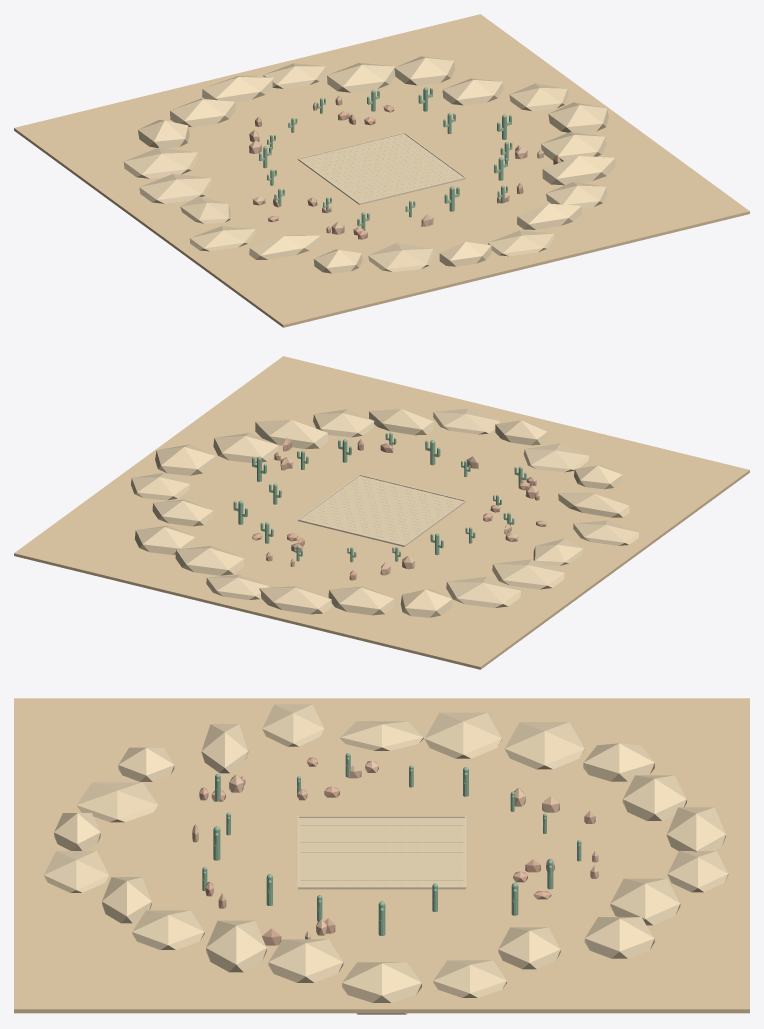
The model's file is landscape-desert.glb.
3 views of the same model, one above another, from view 1: azimuth 30°, elevation 25°; view 2: azimuth 150°, elevation 25°; view 3: azimuth 270°, elevation 25° (orthographic). The views are drawn at different scales.
Parts seen in each view (by area): view 1: Surrounding terrain.001, Playing clearing.001, Dune.010, Dune.011, Dune.021, Dune.005, Dune.001, Dune.016, Dune.008, Dune.007, Dune, Dune.004 (+12 smaller); view 2: Surrounding terrain.001, Playing clearing.001, Dune.010, Dune.011, Dune.005, Dune.021, Dune.007, Dune.001, Dune, Dune.008, Dune.016, Dune.004 (+12 smaller); view 3: Surrounding terrain.001, Playing clearing.001, Dune.010, Dune.011, Dune.001, Dune, Dune.021, Dune.016, Dune.005, Dune.004, Dune.008, Dune.020 (+12 smaller).
Part boxes in pixels (bbox=[...]): Surrounding terrain.001: bbox=[14, 14, 749, 327]; Playing clearing.001: bbox=[298, 134, 465, 204]; Dune.010: bbox=[123, 147, 198, 178]; Dune.011: bbox=[139, 173, 211, 203]; Dune.021: bbox=[542, 156, 615, 185]; Dune.005: bbox=[327, 62, 395, 92]; Dune.001: bbox=[548, 102, 608, 132]; Dune.016: bbox=[368, 243, 433, 271]; Dune.008: bbox=[170, 98, 235, 127]; Dune.007: bbox=[202, 76, 274, 101]; Dune: bbox=[541, 132, 606, 161]; Dune.004: bbox=[394, 56, 454, 85]; Surrounding terrain.001: bbox=[14, 356, 749, 669]; Playing clearing.001: bbox=[298, 476, 465, 546]; Dune.010: bbox=[446, 577, 520, 607]; Dune.011: bbox=[492, 559, 564, 589]; Dune.005: bbox=[175, 546, 244, 575]; Dune.021: bbox=[255, 420, 327, 449]; Dune.007: bbox=[259, 586, 331, 614]; Dune.001: bbox=[155, 444, 215, 475]; Dune: bbox=[213, 433, 278, 463]; Dune.008: bbox=[328, 586, 394, 615]; Dune.016: bbox=[523, 443, 589, 472]; Dune.004: bbox=[135, 525, 195, 554]; Surrounding terrain.001: bbox=[14, 698, 749, 1013]; Playing clearing.001: bbox=[298, 818, 465, 889]; Dune.010: bbox=[504, 722, 584, 769]; Dune.011: bbox=[424, 712, 501, 758]; Dune.001: bbox=[342, 962, 421, 1014]; Dune: bbox=[268, 939, 343, 982]; Dune.021: bbox=[206, 920, 266, 972]; Dune.016: bbox=[76, 782, 158, 822]; Dune.005: bbox=[610, 878, 680, 925]; Dune.004: bbox=[584, 917, 654, 958]; Dune.008: bbox=[622, 775, 686, 820]; Dune.020: bbox=[132, 910, 204, 949].
Bounding box in the file's own units: 90 × 8.55 × 90.
